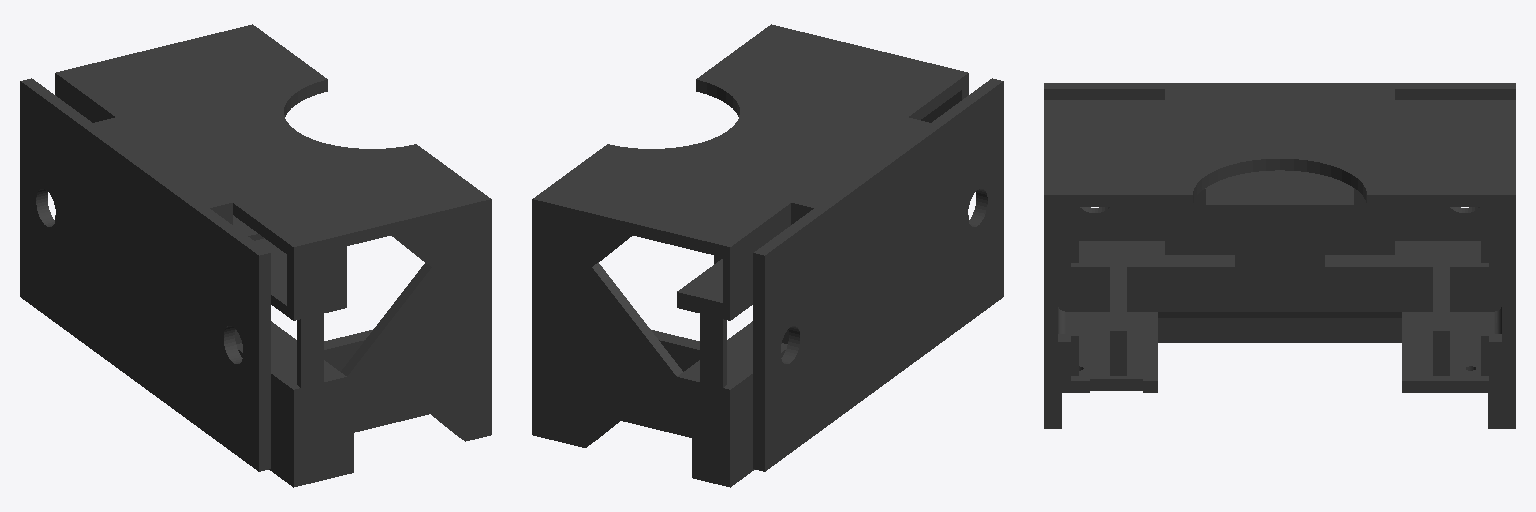
URDF robot description (smarticle):
<?xml version="1.0" encoding="utf-8"?>
<!-- This URDF was automatically created by SolidWorks to URDF Exporter! Originally created by [author] ([email redacted])
     Commit Version: 1.5.1-0-g916b5db  Build Version: 1.5.7152.31018
     For more information, please see http://wiki.ros.org/sw_urdf_exporter -->
<robot
  name="smarticle">
  <link
    name="base_link">
    <inertial>
      <origin
        xyz="0 2.157E-20 0.01515"
        rpy="0 0 0" />
      <mass
        value="0.033918" />
      <inertia
        ixx="1.0837E-05"
        ixy="-5.2677E-22"
        ixz="0"
        iyy="5.1389E-06"
        iyz="0"
        izz="1.0786E-05" />
    </inertial>
    <visual>
      <origin
        xyz="0 0 0"
        rpy="0 0 0" />
      <geometry>
        <mesh
          filename="../meshes/base_link_visual.STL" />
      </geometry>
      <material
        name="">
        <color
          rgba="0.29804 0.29804 0.29804 1" />
      </material>
    </visual>
    <collision>
      <origin
        xyz="0 0 0"
        rpy="0 0 0" />
      <geometry>
        <mesh
          filename="../meshes/base_link.STL" />
      </geometry>
    </collision>
  </link>
  <link
    name="arm_left">
    <inertial>
      <origin
        xyz="0.02234 3.4694E-18 0.01515"
        rpy="0 0 0" />
      <mass
        value="0.0039735" />
      <inertia
        ixx="4.928E-07"
        ixy="3.3351E-09"
        ixz="4.2578E-08"
        iyy="1.161E-06"
        iyz="-2.125E-10"
        izz="6.7795E-07" />
      </inertial>
    <visual>
      <origin
        xyz="0 0 0"
        rpy="0 0 0" />
      <geometry>
        <mesh
          filename="../meshes/arm_left_visual.STL" />
      </geometry>
      <material
        name="">
        <color
          rgba="0.25 0 0 1" />
      </material>
    </visual>
    <collision>
      <origin
        xyz="0 0 0"
        rpy="0 0 0" />
      <geometry>
        <mesh
          filename="../meshes/arm_left_visual.STL" />
      </geometry>
    </collision>
  </link>
  <joint
    name="servo_left"
    type="revolute">
    <origin
      xyz="-0.0015 0.0212 0.001"
      rpy="0 0 0.2635" />
    <parent
      link="base_link" />
    <child
      link="arm_left" />
    <axis
      xyz="0 0 -1" />
    <limit
      lower="-1.8"
      upper="1.8"
      effort="0.028"
      velocity="6.8" />
  </joint>
  <link
    name="arm_right">
    <inertial>
      <origin
        xyz="0.02234 8.6736E-19 0.01515"
        rpy="0 0 0" />
      <mass
        value="0.0039735" />
      <inertia
        ixx="4.928E-07"
        ixy="3.3351E-09"
        ixz="4.2578E-08"
        iyy="1.161E-06"
        iyz="-2.125E-10"
        izz="6.7795E-07" />
    </inertial>
    <visual>
      <origin
        xyz="0 0 0"
        rpy="0 0 0" />
      <geometry>
        <mesh
          filename="../meshes/arm_right_visual.STL" />
      </geometry>
      <material
        name="">
        <color
          rgba="0 0 1 1" />
      </material>
    </visual>
    <collision>
      <origin
        xyz="0 0 0"
        rpy="0 0 0" />
      <geometry>
        <mesh
          filename="../meshes/arm_right.STL" />
      </geometry>
    </collision>
  </link>
  <joint
    name="servo_right"
    type="revolute">
    <origin
      xyz="-0.0015 -0.0212 0.001"
      rpy="0 0 -1.4465" />
    <parent
      link="base_link" />
    <child
      link="arm_right" />
    <axis
      xyz="0 0 -1" />
    <limit
      lower="-1.8"
      upper="1.8"
      effort="0.028"
      velocity="6.8" />
  </joint>
</robot>

--- What the picture shows (computed from the rendered views, not written in the file) ---
Views: 3 orthographic renders of the robot side by side, from view 1: azimuth 30°, elevation 25°; view 2: azimuth 150°, elevation 25°; view 3: azimuth 270°, elevation 25°.
Robot: smarticle — 3 links, 2 joints (2 revolute); root link base_link; default pose: all joints at 0.
Links seen in each view (by area): view 1: base_link; view 2: base_link; view 3: base_link.
Link boxes in pixels (<box>): base_link: <box>20,24,491,487</box>; base_link: <box>532,24,1003,487</box>; base_link: <box>1044,83,1515,428</box>.
Bounding box of the posed robot: 0.0304 × 0.054 × 0.03 m (x, y, z).
Meshes: 3 distinct files referenced, 1 mesh visuals loaded (1 binary STL); not drawn: 2 (reference not matched to a file when rendering).